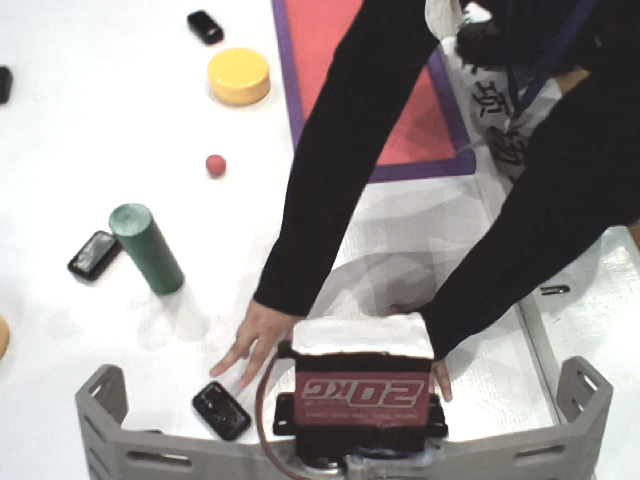black: (184, 371, 255, 444), (56, 230, 121, 289), (179, 6, 226, 45), (1, 60, 11, 110)
kuang: (268, 1, 488, 186)
red: (202, 149, 227, 181)
yellow: (203, 48, 278, 108), (1, 307, 15, 364)
zhuzi: (109, 204, 194, 297)
